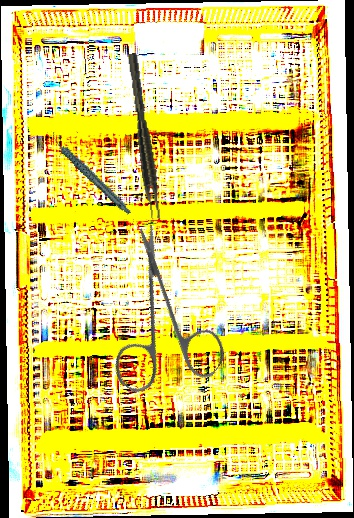Handpiece: (49, 119, 132, 228)
Iris Scissors: (61, 221, 264, 424)
Tissue Forceps: (127, 52, 163, 221)
